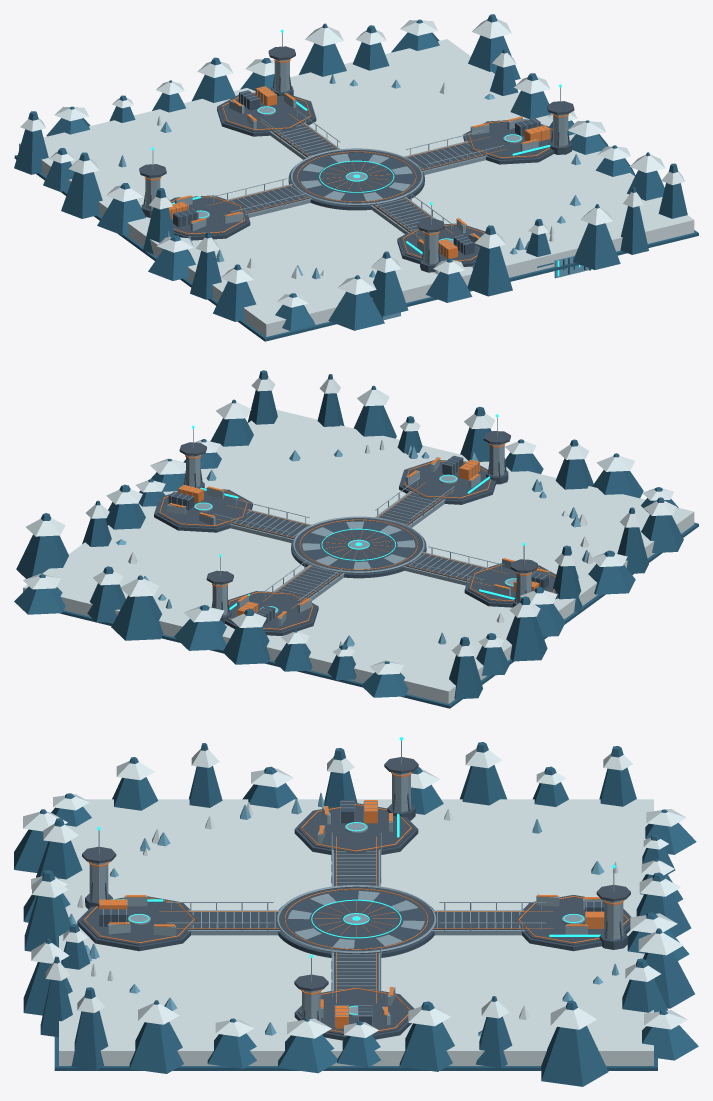
The model's file is frozen_outpost.glb.
3 views of the same model, one above another, from view 1: azimuth 30°, elevation 25°; view 2: azimuth 150°, elevation 25°; view 3: azimuth 270°, elevation 25° (orthographic). The views are drawn at different scales.
Visible parts, largest first — view 1: VISUAL | 04 | compacted snow, VISUAL | 06 | deep ice, VISUAL | 03 | graphite deck, VISUAL | 02 | frosted armor, VISUAL | 01 | gunmetal steel, VISUAL | 07 | safety orange, VISUAL | 05 | glacier blue, VISUAL | 08 | power cyan; view 2: VISUAL | 04 | compacted snow, VISUAL | 06 | deep ice, VISUAL | 03 | graphite deck, VISUAL | 02 | frosted armor, VISUAL | 01 | gunmetal steel, VISUAL | 07 | safety orange, VISUAL | 05 | glacier blue, VISUAL | 08 | power cyan; view 3: VISUAL | 04 | compacted snow, VISUAL | 06 | deep ice, VISUAL | 03 | graphite deck, VISUAL | 02 | frosted armor, VISUAL | 01 | gunmetal steel, VISUAL | 07 | safety orange, VISUAL | 05 | glacier blue, VISUAL | 08 | power cyan.
Part boxes in pixels (x1=…): VISUAL | 04 | compacted snow: x1=19, y1=19, x2=694, y2=336; VISUAL | 06 | deep ice: x1=14, y1=14, x2=698, y2=341; VISUAL | 03 | graphite deck: x1=139, y1=46, x2=574, y2=262; VISUAL | 02 | frosted armor: x1=145, y1=32, x2=568, y2=264; VISUAL | 01 | gunmetal steel: x1=141, y1=75, x2=571, y2=272; VISUAL | 07 | safety orange: x1=144, y1=59, x2=568, y2=260; VISUAL | 05 | glacier blue: x1=118, y1=74, x2=591, y2=320; VISUAL | 08 | power cyan: x1=151, y1=29, x2=580, y2=276; VISUAL | 04 | compacted snow: x1=23, y1=377, x2=694, y2=703; VISUAL | 06 | deep ice: x1=14, y1=370, x2=698, y2=708; VISUAL | 03 | graphite deck: x1=157, y1=431, x2=556, y2=631; VISUAL | 02 | frosted armor: x1=167, y1=417, x2=549, y2=626; VISUAL | 01 | gunmetal steel: x1=154, y1=455, x2=558, y2=635; VISUAL | 07 | safety orange: x1=159, y1=443, x2=555, y2=629; VISUAL | 05 | glacier blue: x1=116, y1=445, x2=588, y2=646; VISUAL | 08 | power cyan: x1=192, y1=414, x2=525, y2=611; VISUAL | 04 | compacted snow: x1=23, y1=748, x2=687, y2=1065; VISUAL | 06 | deep ice: x1=14, y1=742, x2=698, y2=1086; VISUAL | 03 | graphite deck: x1=81, y1=757, x2=630, y2=1035; VISUAL | 02 | frosted armor: x1=89, y1=740, x2=623, y2=1026; VISUAL | 01 | gunmetal steel: x1=77, y1=793, x2=631, y2=1040; VISUAL | 07 | safety orange: x1=84, y1=772, x2=628, y2=1032; VISUAL | 05 | glacier blue: x1=69, y1=792, x2=619, y2=1036; VISUAL | 08 | power cyan: x1=97, y1=737, x2=615, y2=1014.
Size of the model in its own units: 84.84 by 14.76 by 85.17.
